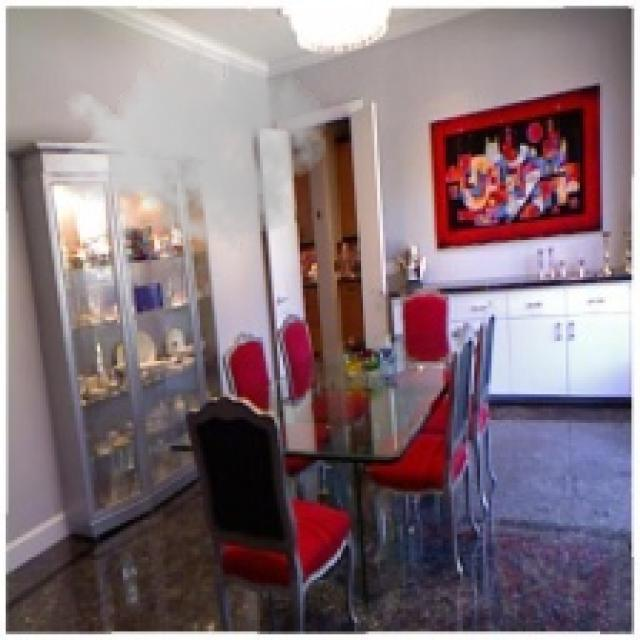Smoke: (54, 31, 329, 258)
